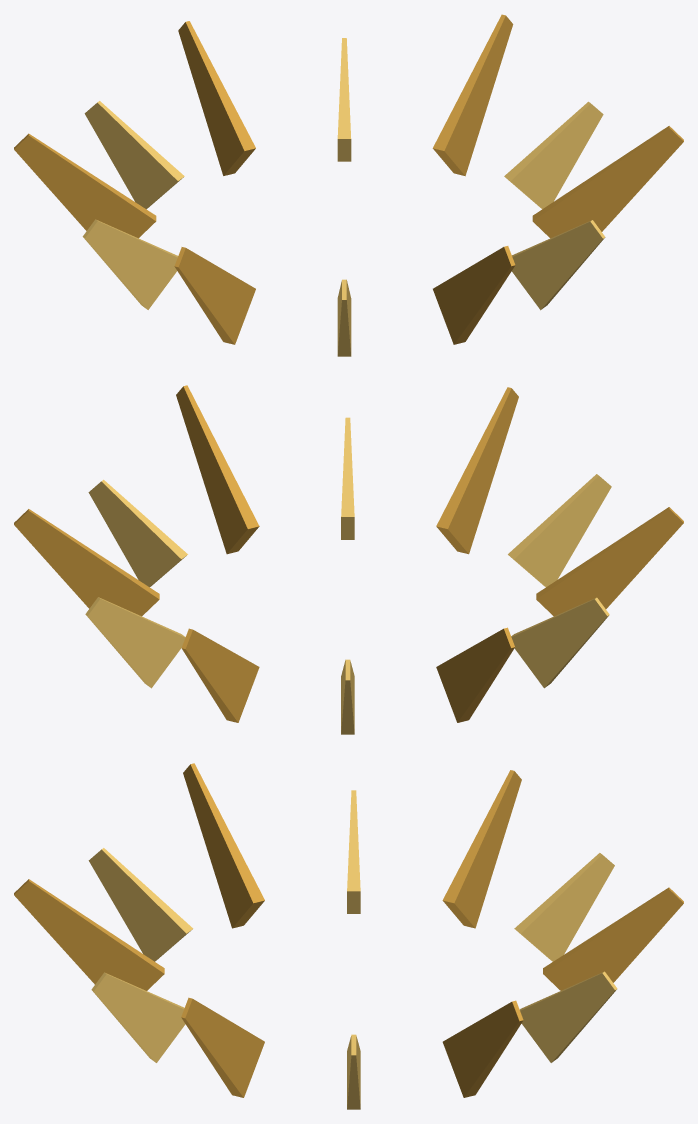
The model's file is crest_goldclaw.glb.
3 renders of one model, top to bottom at view 1: azimuth 30°, elevation 25°; view 2: azimuth 150°, elevation 25°; view 3: azimuth 270°, elevation 25°, orthographic.
Parts seen in each view (by area): view 1: Crest_goldclaw; view 2: Crest_goldclaw; view 3: Crest_goldclaw.
Boxes of the visible parts, x1,y1,x2,y2 form: Crest_goldclaw: [14, 14, 683, 356]; Crest_goldclaw: [14, 385, 683, 734]; Crest_goldclaw: [14, 763, 683, 1109].
Size of the model in its own units: 0.9728 by 0.2376 by 1.08.
